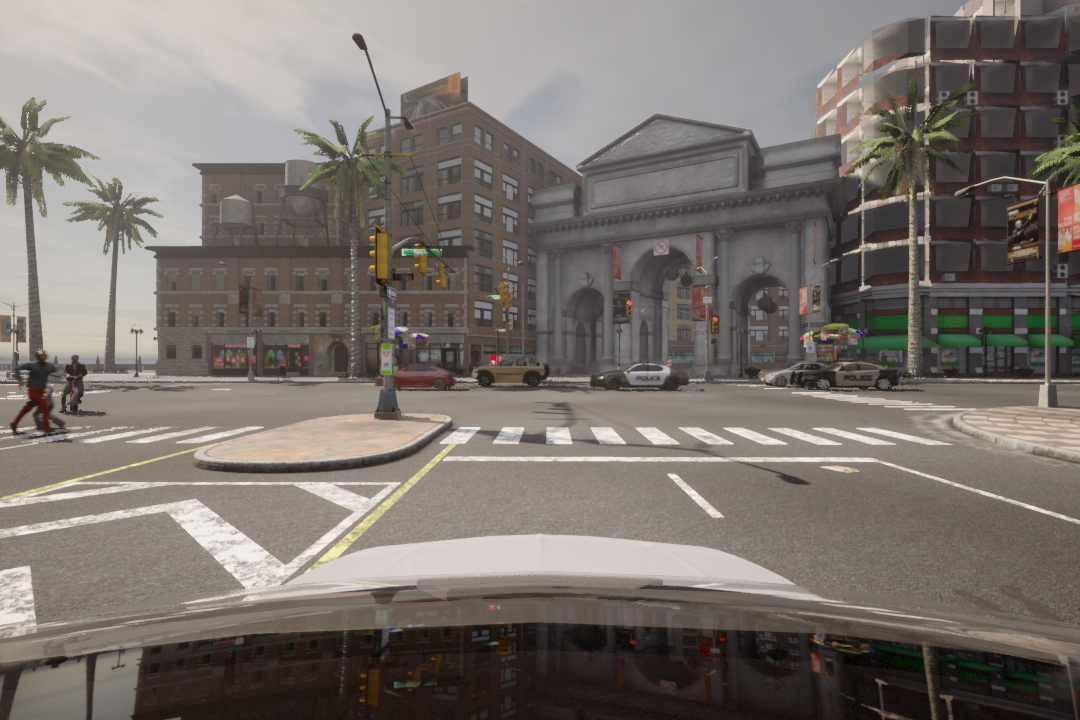TrafficLight: (707, 317, 721, 335), (627, 298, 633, 321)
TrafficSign: (654, 240, 668, 255)
walkside: (447, 423, 948, 449), (2, 425, 273, 454)
